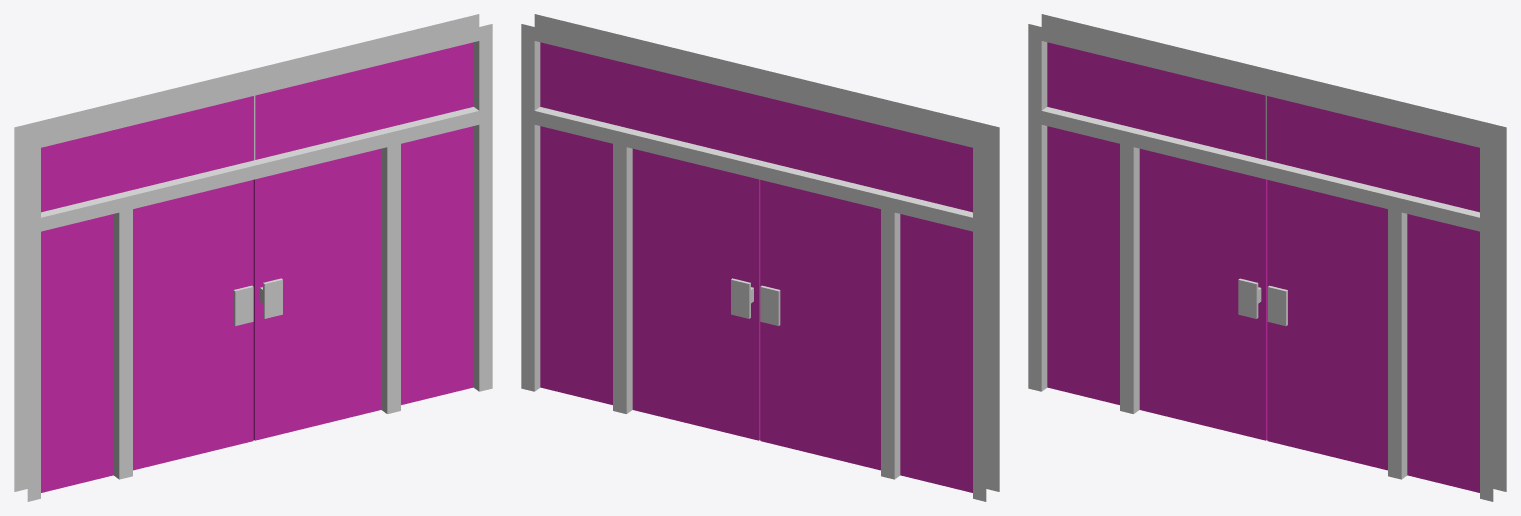
The model's file is assetpack2.fbx.
3 views of the same model, side by side, from view 1: azimuth 30°, elevation 25°; view 2: azimuth 150°, elevation 25°; view 3: azimuth 330°, elevation 25° (orthographic).
Visible parts, largest first — view 1: Cube.002; view 2: Cube.002; view 3: Cube.002.
Part boxes in pixels (left/top/right/bottom): Cube.002: left=14, top=14, right=492, bottom=501; Cube.002: left=521, top=14, right=999, bottom=501; Cube.002: left=1028, top=14, right=1506, bottom=501.
Size of the model in its own units: 400 by 300 by 20.
